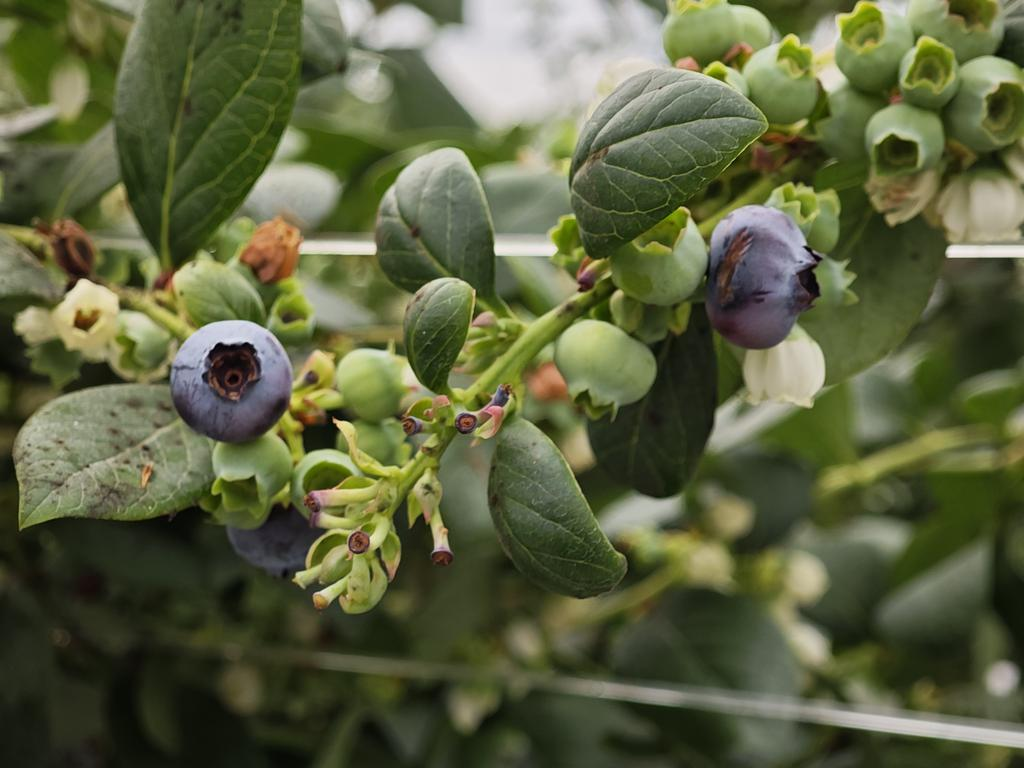RipeBlueBerry: (705, 205, 822, 351), (168, 313, 295, 443), (226, 505, 333, 578)
UnripeBlueBerry: (552, 320, 658, 417)
